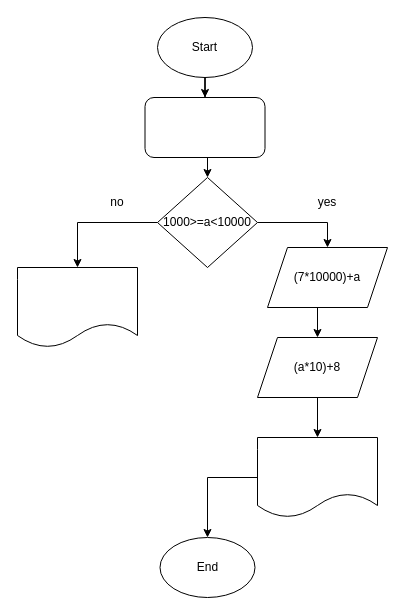
This 405x615 diagram has some shape labels left out. Each missing label, with the box of its shape:
a=1234: (144, 96, 265, 158)
Cavab: (256, 436, 378, 518)
verilen 4 reqemli deyil: (16, 266, 138, 348)
